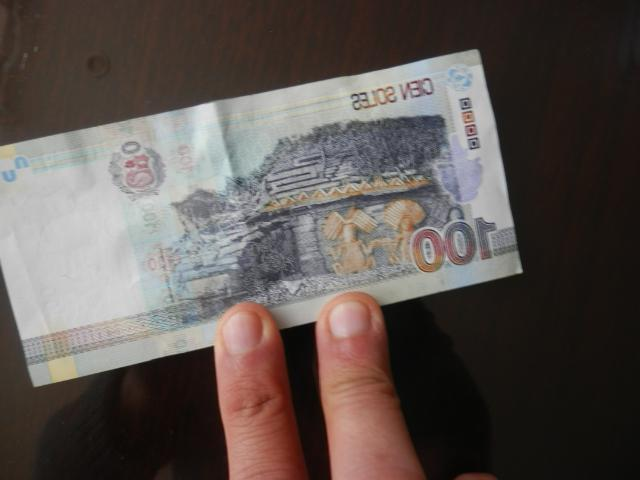B100: (1, 48, 524, 386)
